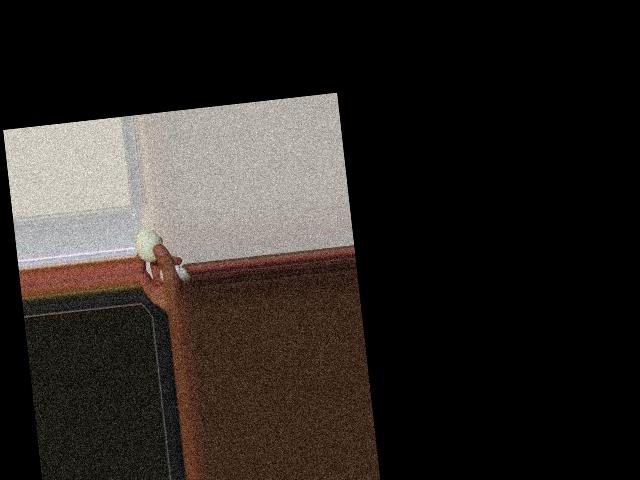egg: (133, 227, 164, 263)
